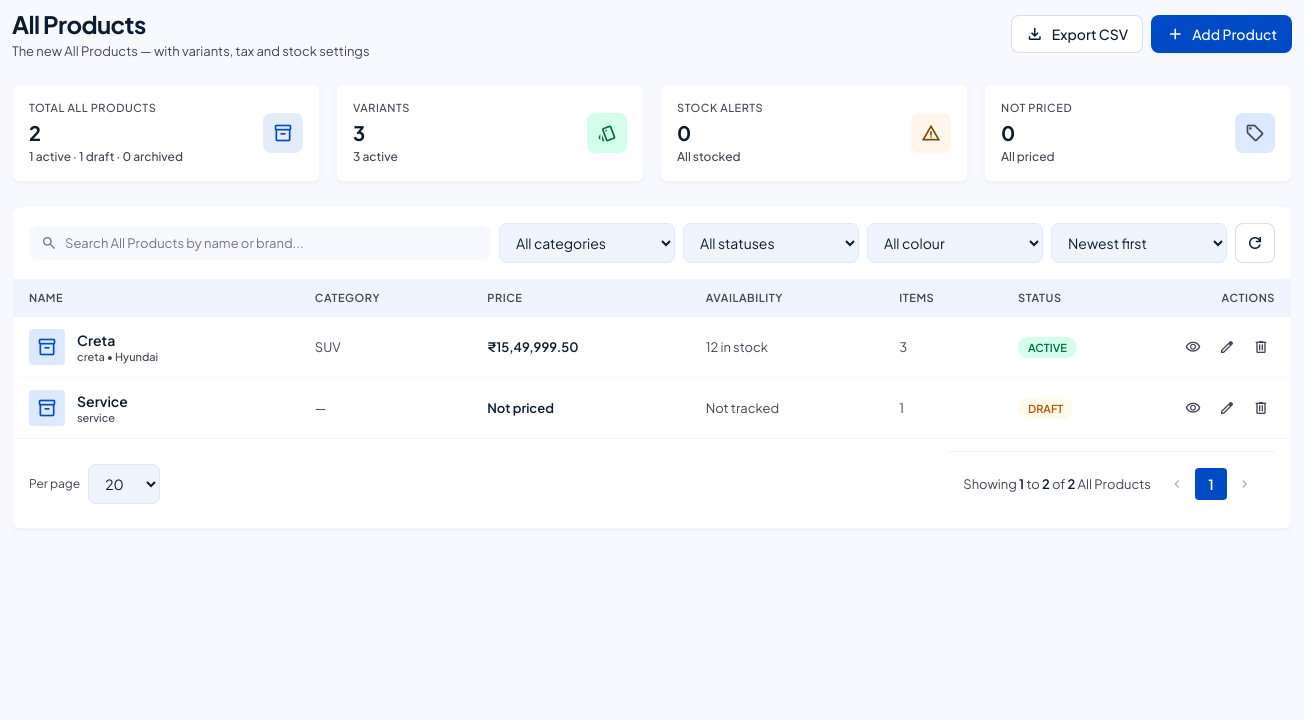
Scenario: ProductsV2Page › refreshes products, stats, and metadata when the refresh button is clicked
Expected: the row with test id "product-creta" is shown, [13,317,1291,378]
Click the button named "Refresh": (1255, 243) [1235,223,1275,263]
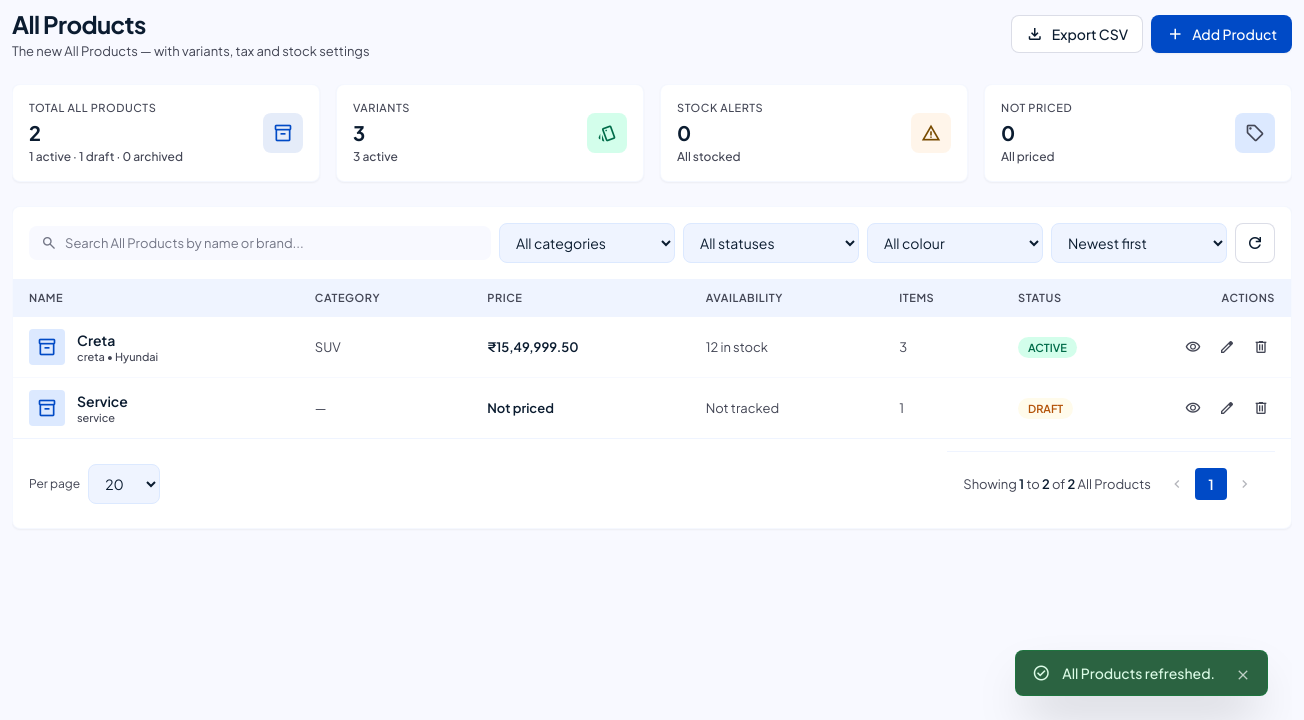
Result: the text "All Products refreshed." is shown at [1062,663,1215,683]
